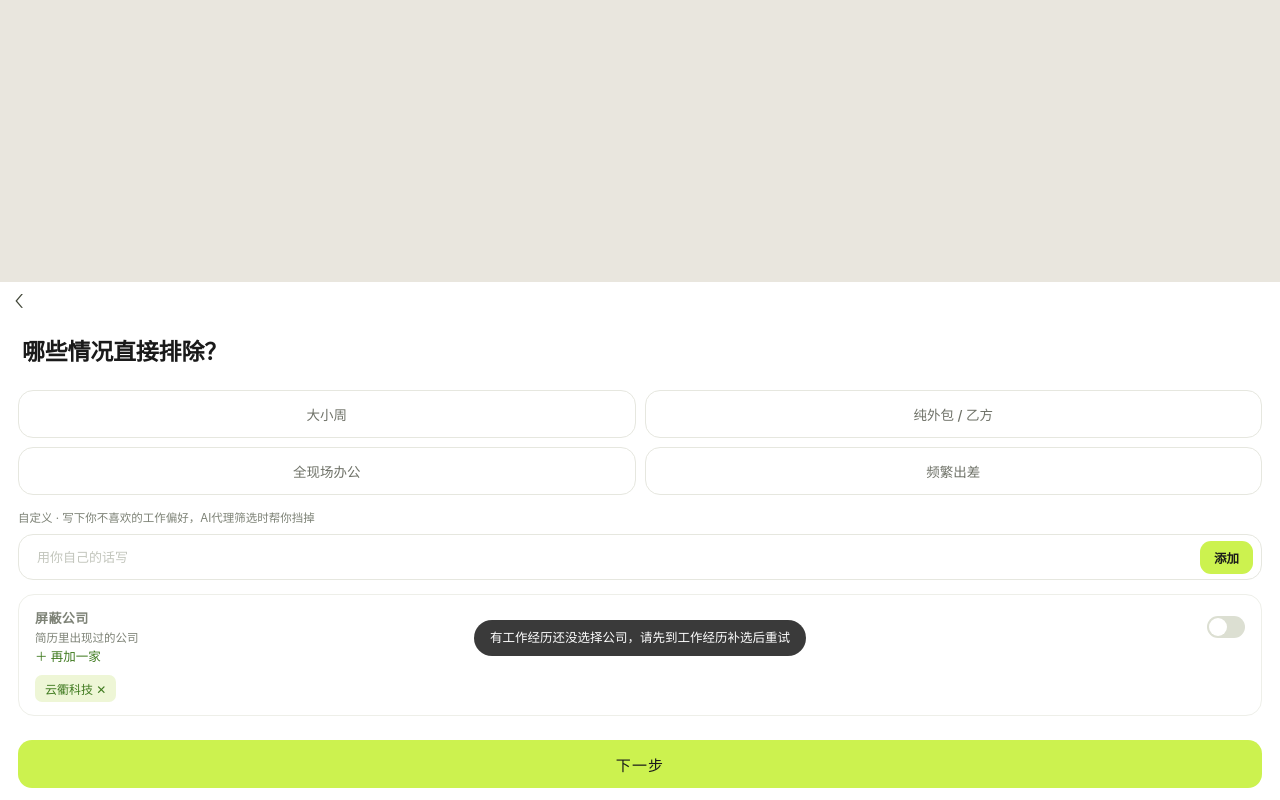
引导问答 硬性排除：私有诉求与权威屏蔽（Task 7） › Backend chip 来自权威屏蔽快照；解除失败保留 chip，不做本地假成功
The image size is (1280, 800).
(page scrolled)
Click the button "云衢科技 ✕".
click(76, 689)  # box [35,675,116,702]
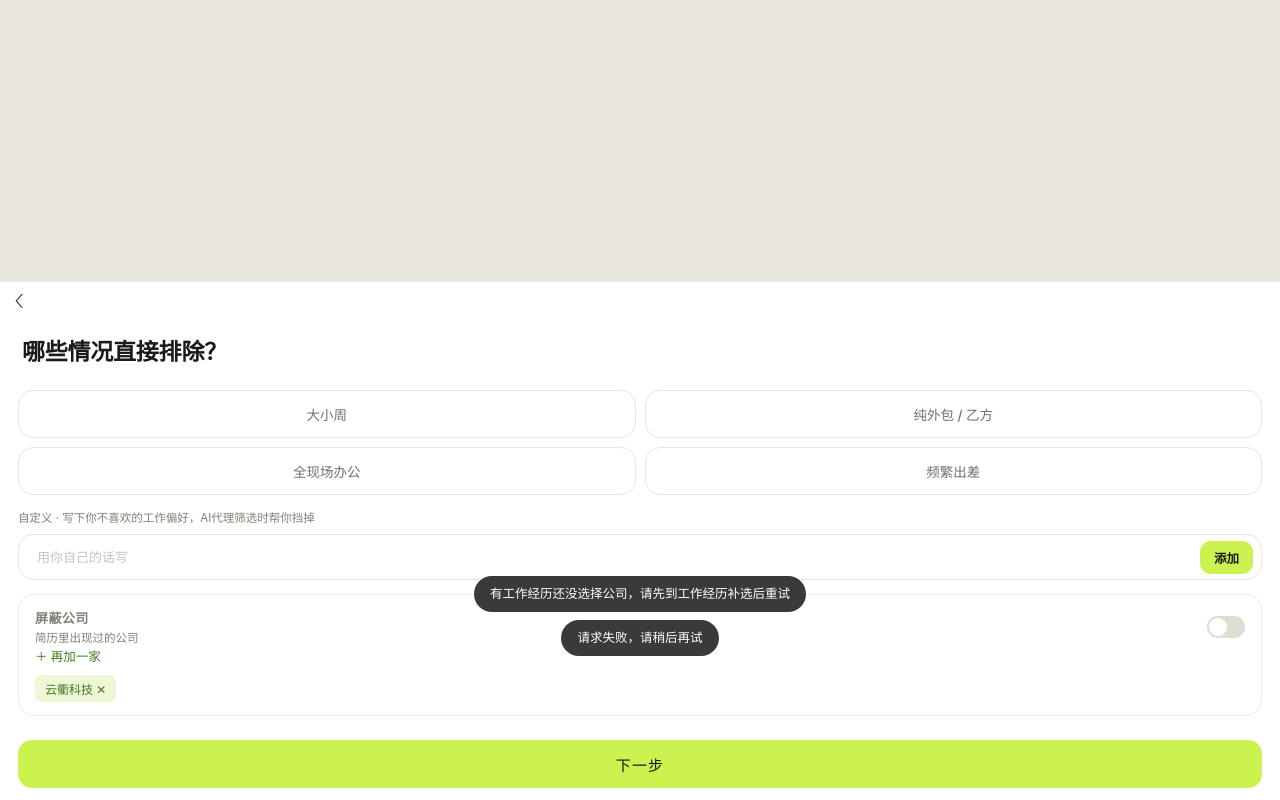
Expected: the text "请求失败，请稍后再试" is shown, [562,620,718,656]
